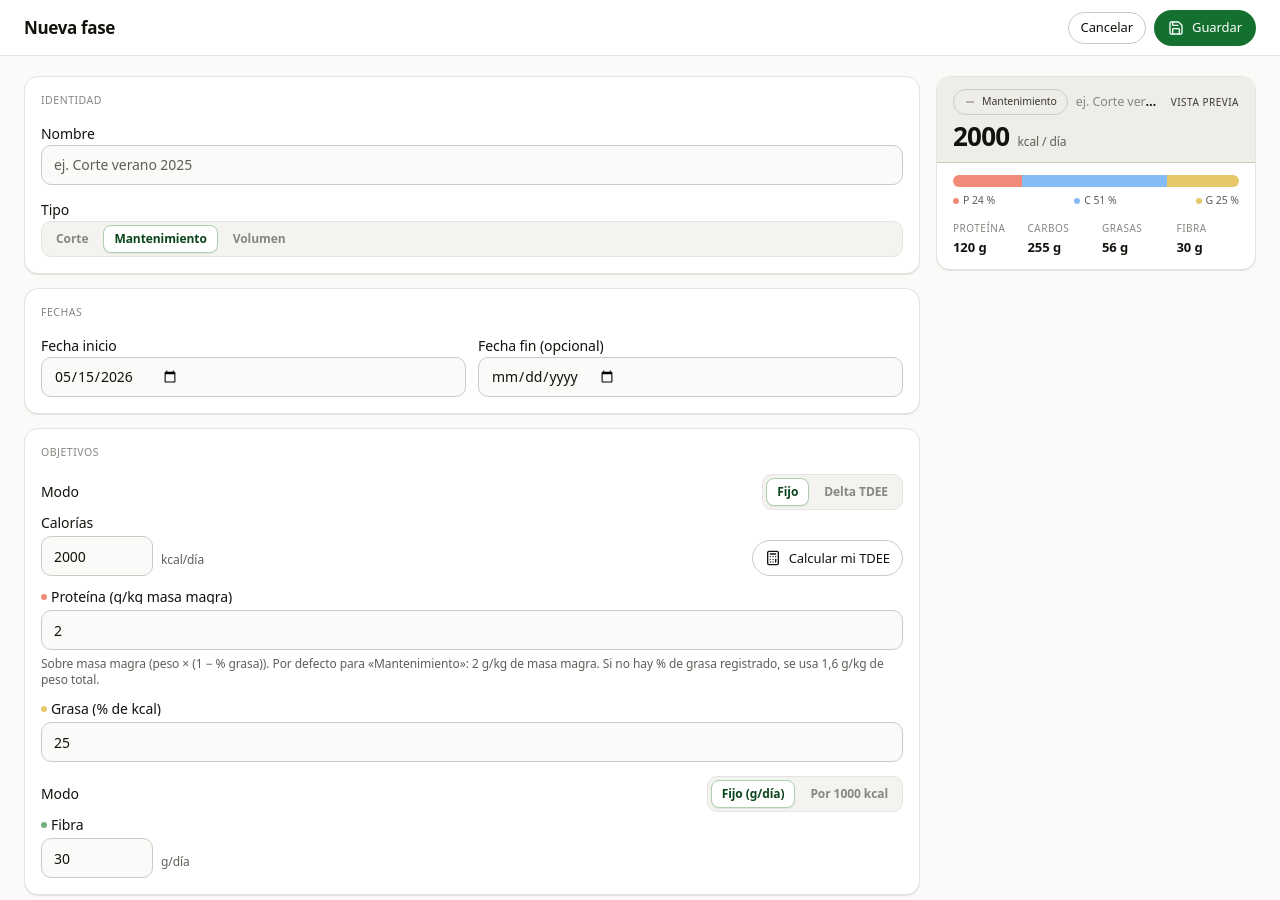
it: PhaseEditorPage — the live preview (B2) › a blanked kcal field empties the preview to the incomplete hint — never zeros
The width and height of the screenshot is (1280, 900).
Clear the field labelled "Calorías": (97, 556) [41,536,153,576]
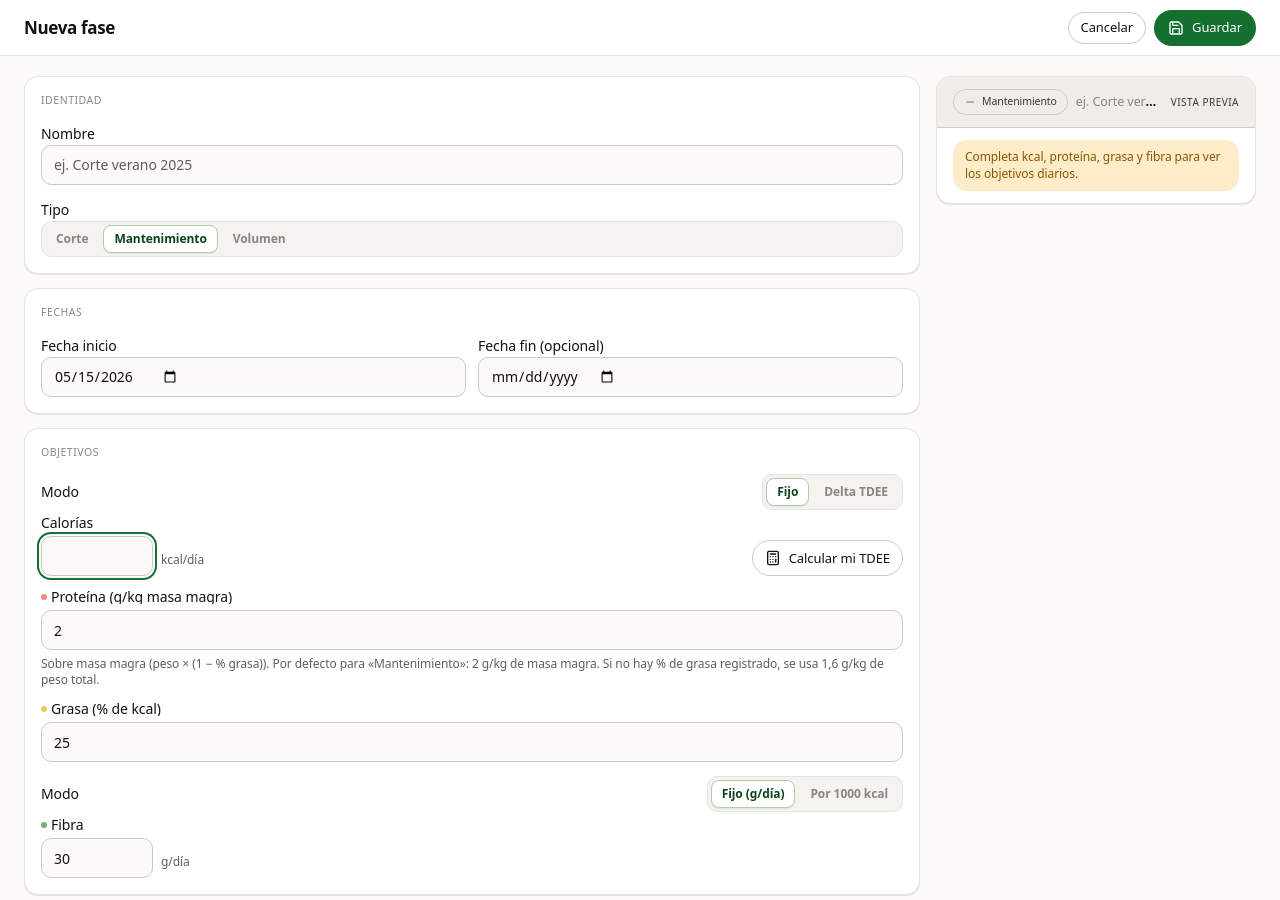
Expected: the message reads "Completa kcal, proteína, grasa y fibra para ver los objetivos diarios.", [965,148,1220,182]
Expected: the text with test id "preview-kcal" is gone
